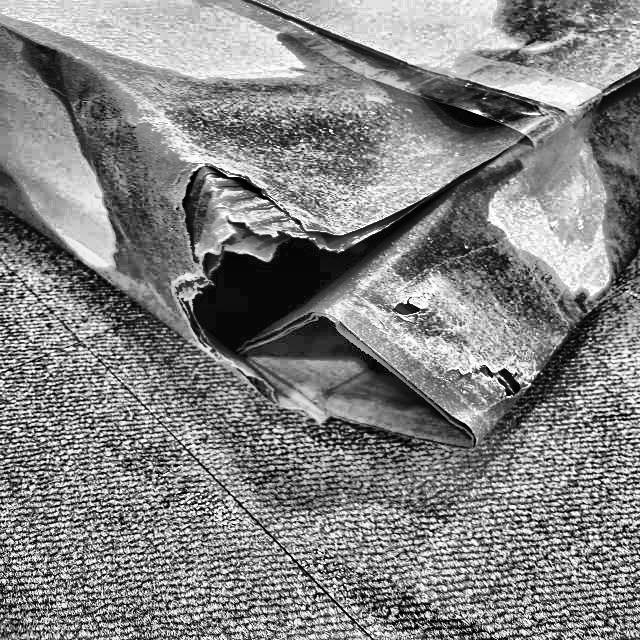box: (0, 0, 640, 455)
hole: (158, 203, 396, 370)
wet: (24, 39, 480, 200), (372, 206, 581, 409), (513, 0, 640, 268)
